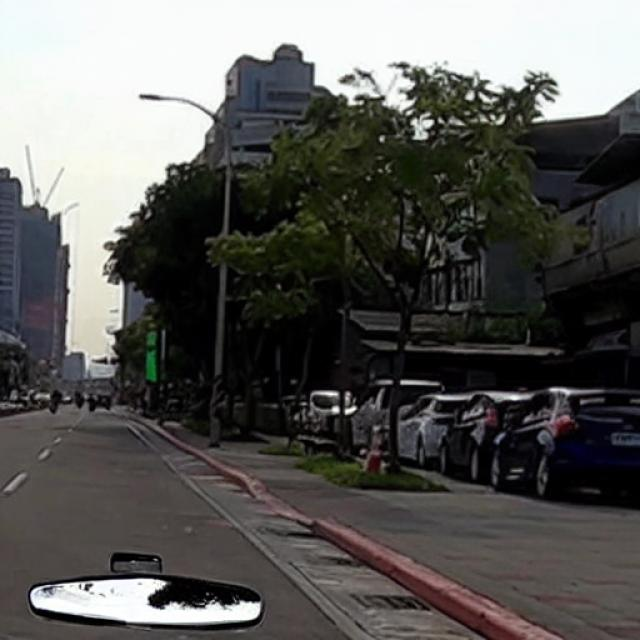puddle: (31, 577, 263, 629)
